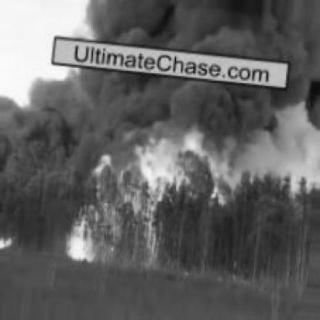Smoke: (50, 2, 312, 112)
